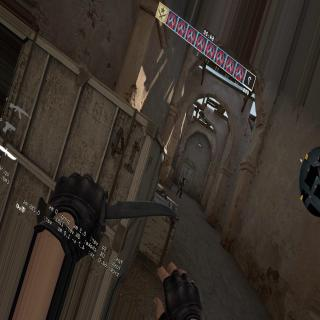CT-Body: (177, 175, 185, 198)
CT-Head: (183, 175, 185, 180)
